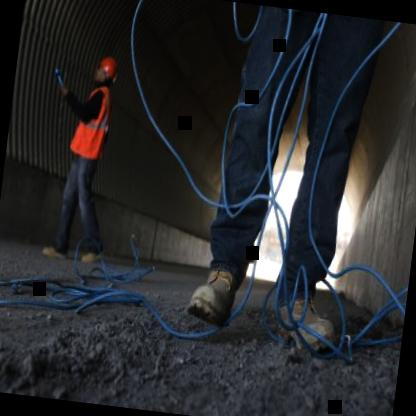helmet: (89, 52, 118, 94)
